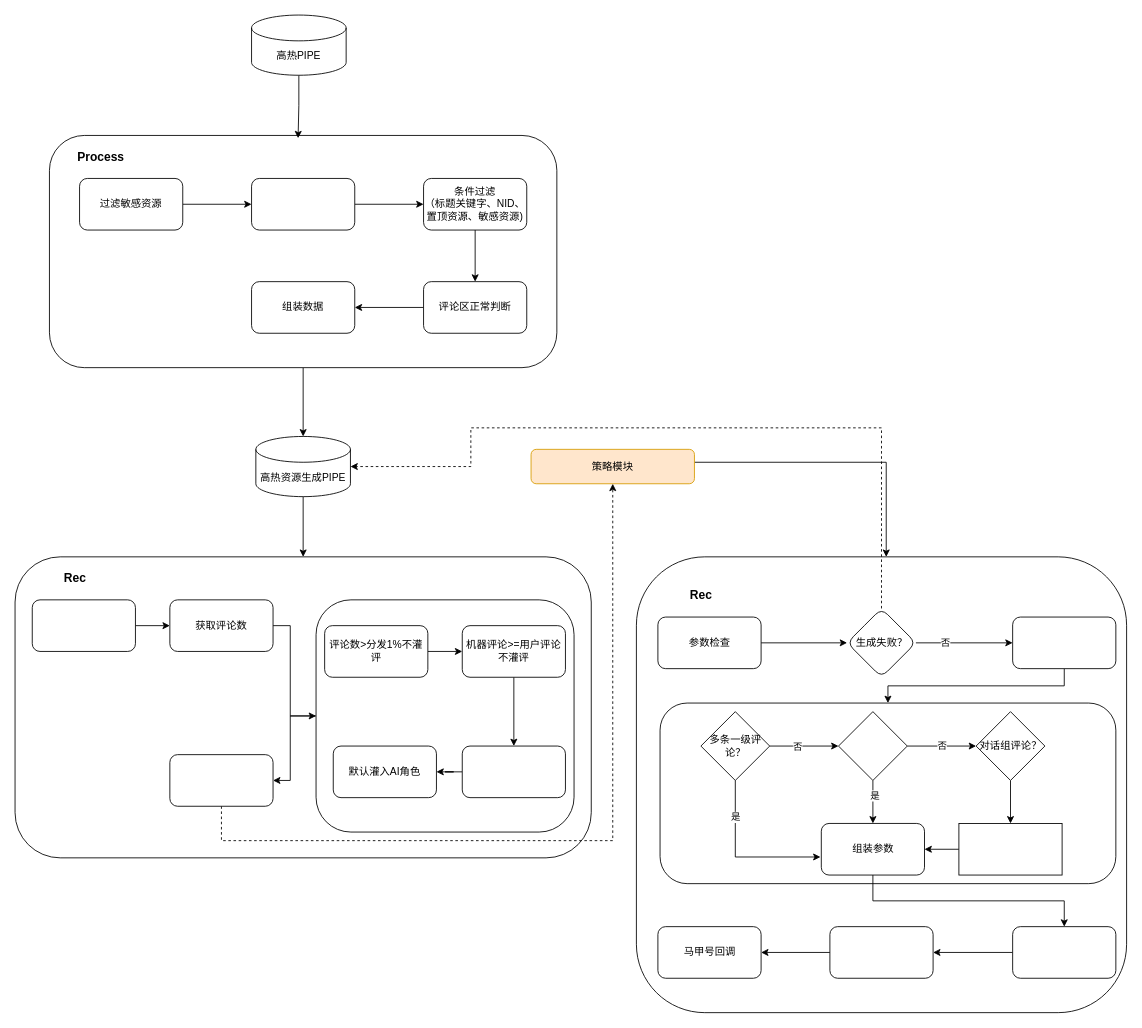
Some shapes in this 1142 by 1028 pixel diagram are drawn without their labels. Each missing label, with the centre of its shape:
"AI角色灌入失败 || AI角色黑名单垂类" goes at pixel 513 771.
"多模态评论？" goes at pixel 872 745.
"将回复放入Redis" goes at pixel 1010 849.
"检查参数" goes at pixel 83 625.
"灌入评论" goes at pixel 881 952.
"获取处理评论的结构体" goes at pixel 1064 642.
"获取模型信息 (策略模型升级)" goes at pixel 303 204.
"获取马甲号" goes at pixel 1064 952.
"请求策略" goes at pixel 221 780.
